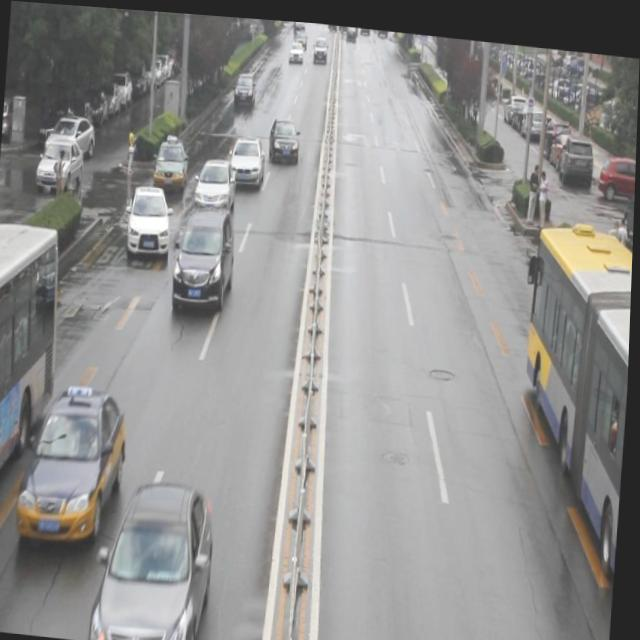car: (92, 474, 216, 640), (20, 383, 131, 553), (173, 202, 236, 310), (125, 177, 174, 264), (192, 150, 238, 222), (152, 130, 189, 197), (228, 132, 265, 189), (269, 114, 300, 158)
van: (508, 220, 635, 584), (0, 225, 68, 560)
